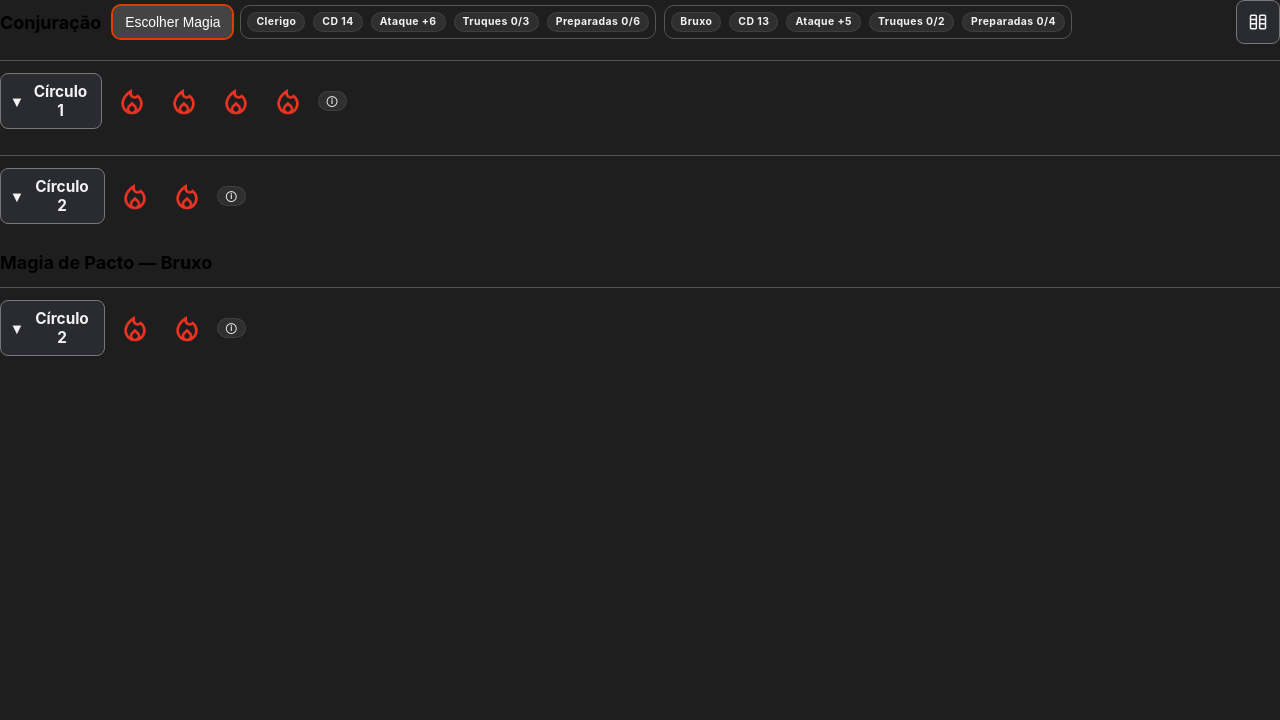
Test: recolher conjuração mantém espaços acionáveis e não recolhe o círculo de Pacto correspondente
Click the button with aria-label "Recolher Círculo 2 — Conjuração" at (52, 196), box [0, 168, 105, 224]
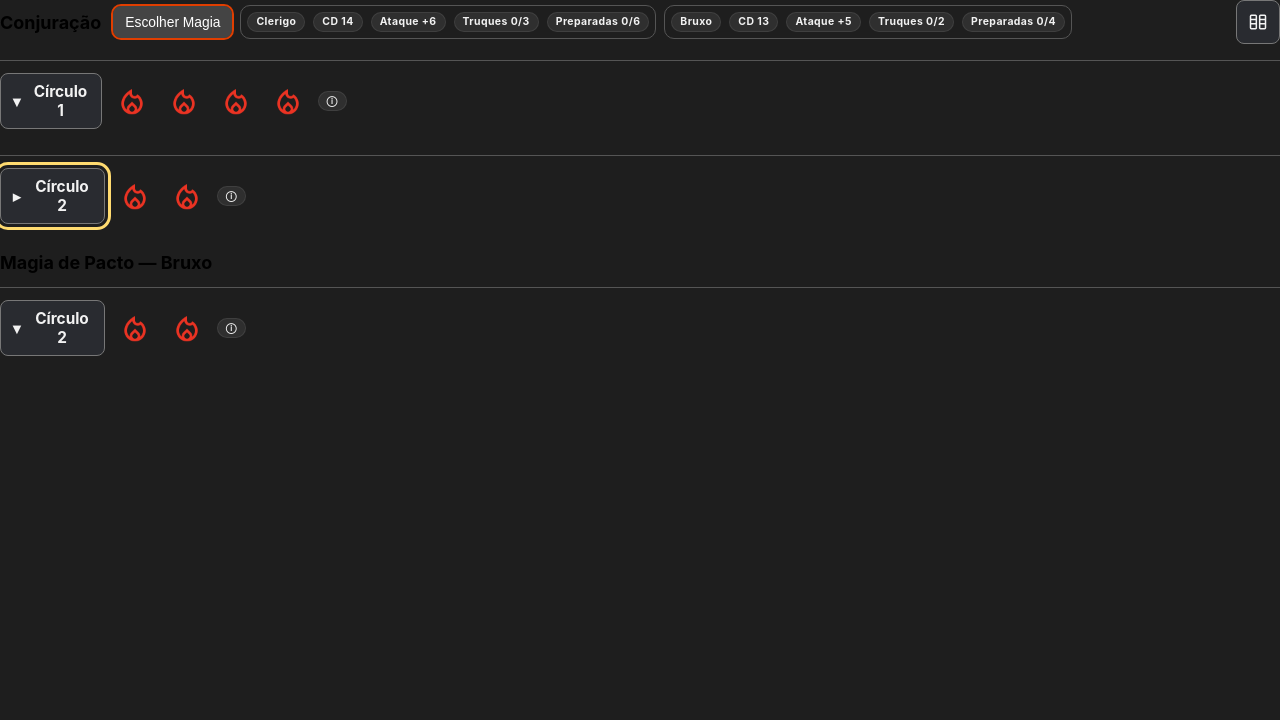
Click the button named "Conjuração, círculo 2, espaço 1: disponível" at (135, 196), box [113, 174, 157, 218]
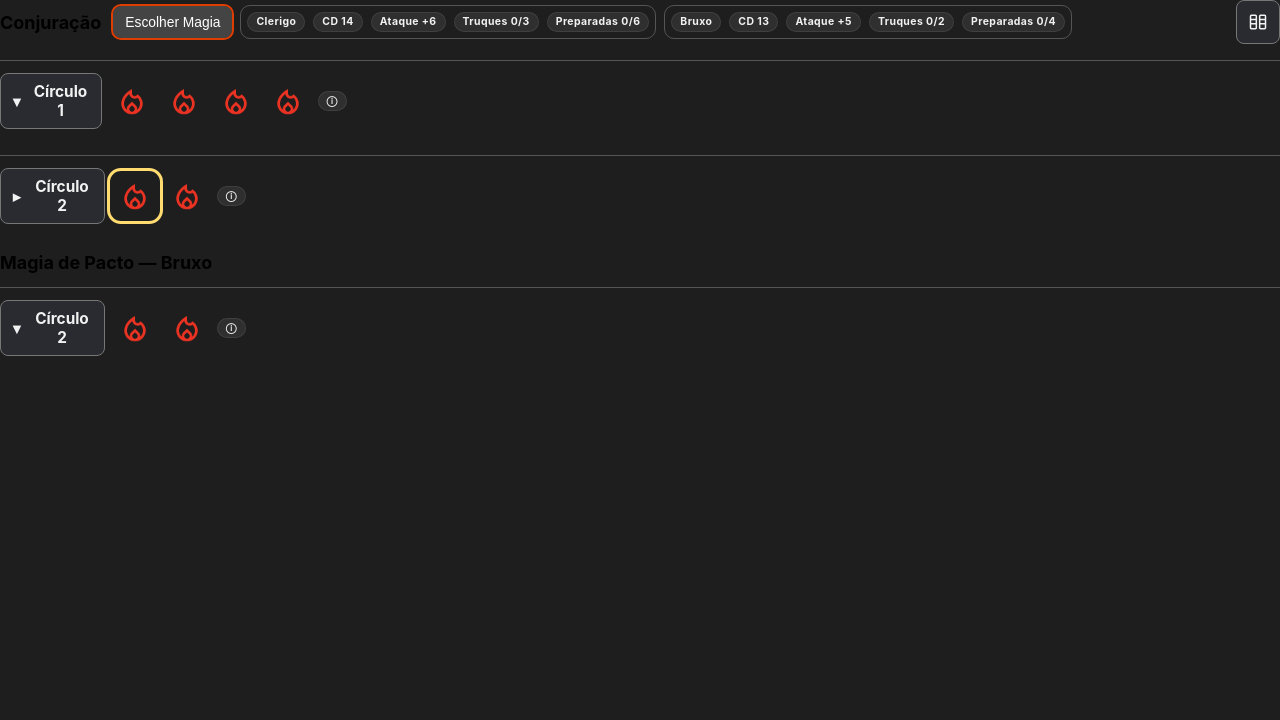
Click the button "Escolher Magia" at (173, 22), box [113, 6, 232, 38]
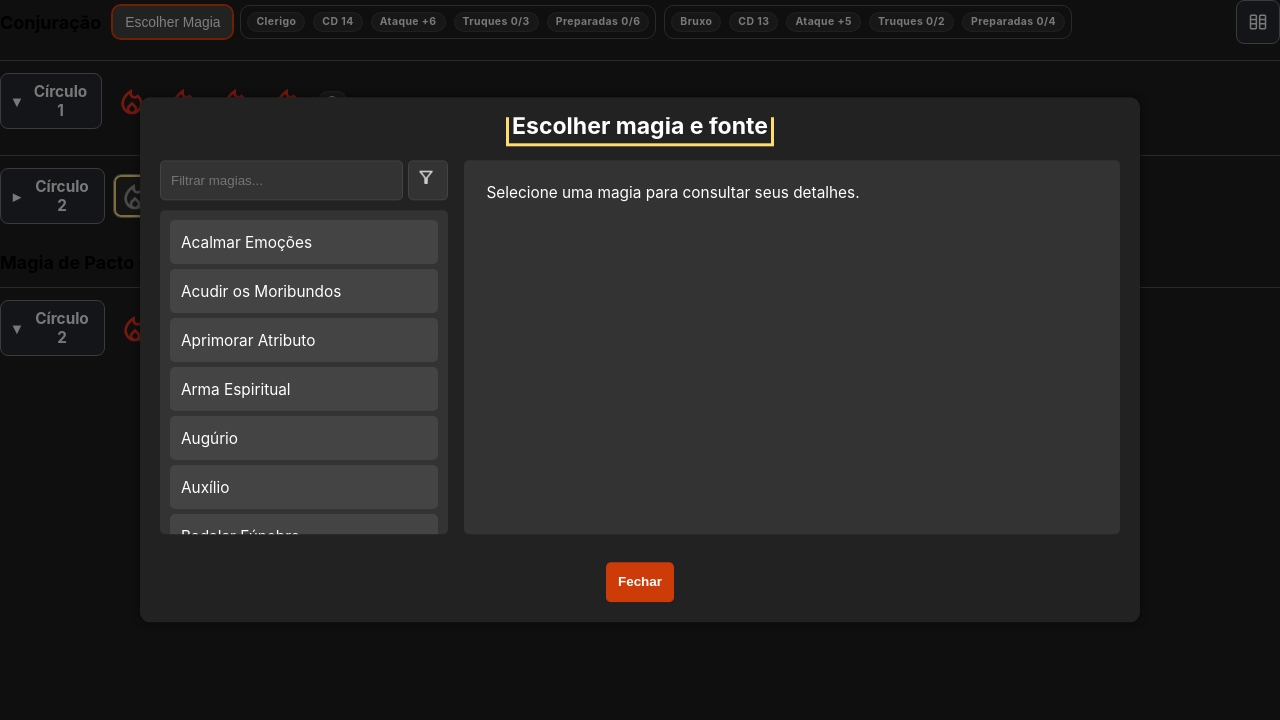
Expected: the dialog is shown, [160, 117, 1120, 603]
